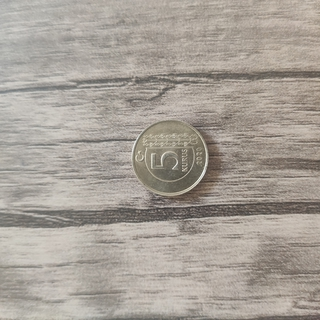5KURUS: (129, 117, 210, 198)
